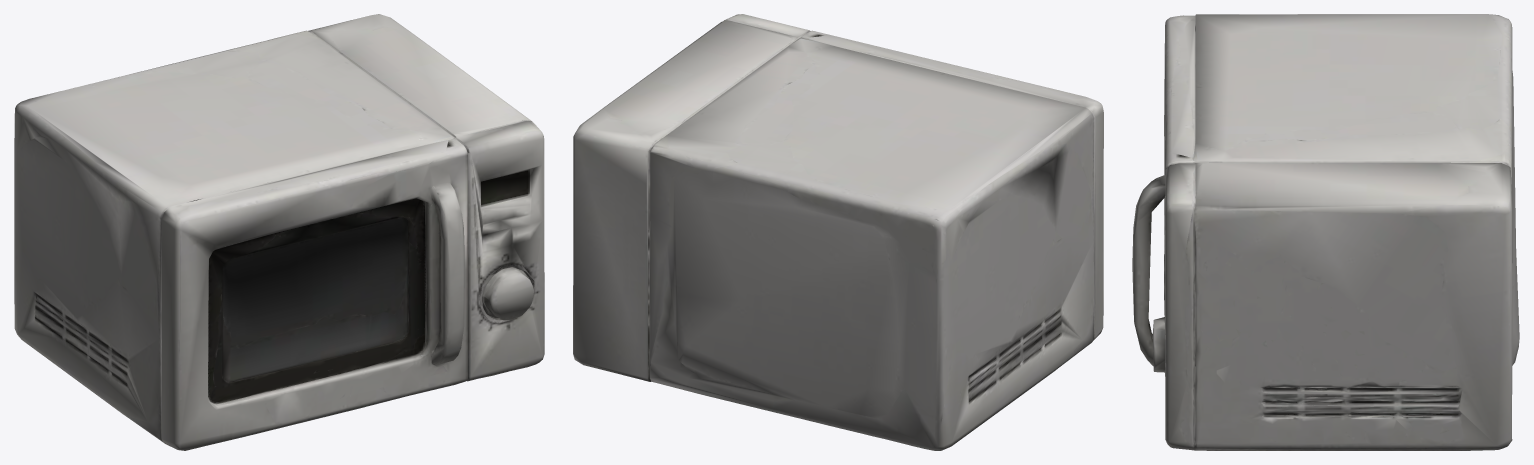
File: microwave-lite.glb
The picture shows the model from 3 angles, left to right: view 1: azimuth 30°, elevation 25°; view 2: azimuth 150°, elevation 25°; view 3: azimuth 270°, elevation 25°; orthographic projection. The views are drawn at different scales.
Parts seen in each view (by area): view 1: node_0; view 2: node_0; view 3: node_0.
Boxes of the visible parts, x1,y1,x2,y2 form: node_0: (14, 14, 544, 450); node_0: (573, 14, 1103, 450); node_0: (1132, 14, 1519, 450).
Bounding box in the file's own units: 0.8638 × 0.5376 × 0.7315.
1 material, 1 textured.
